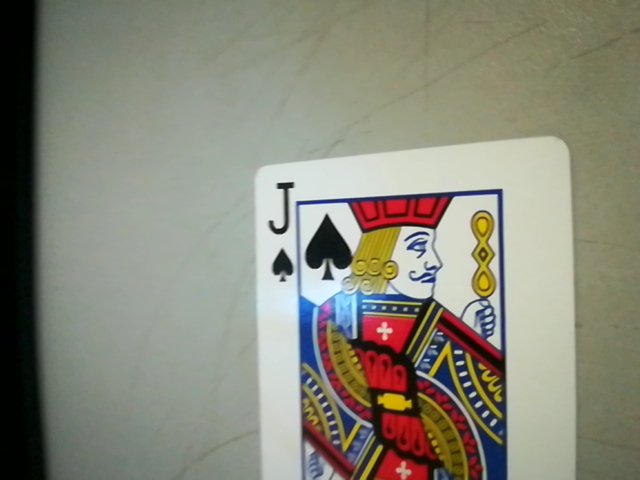ht j: (257, 173, 301, 286)
